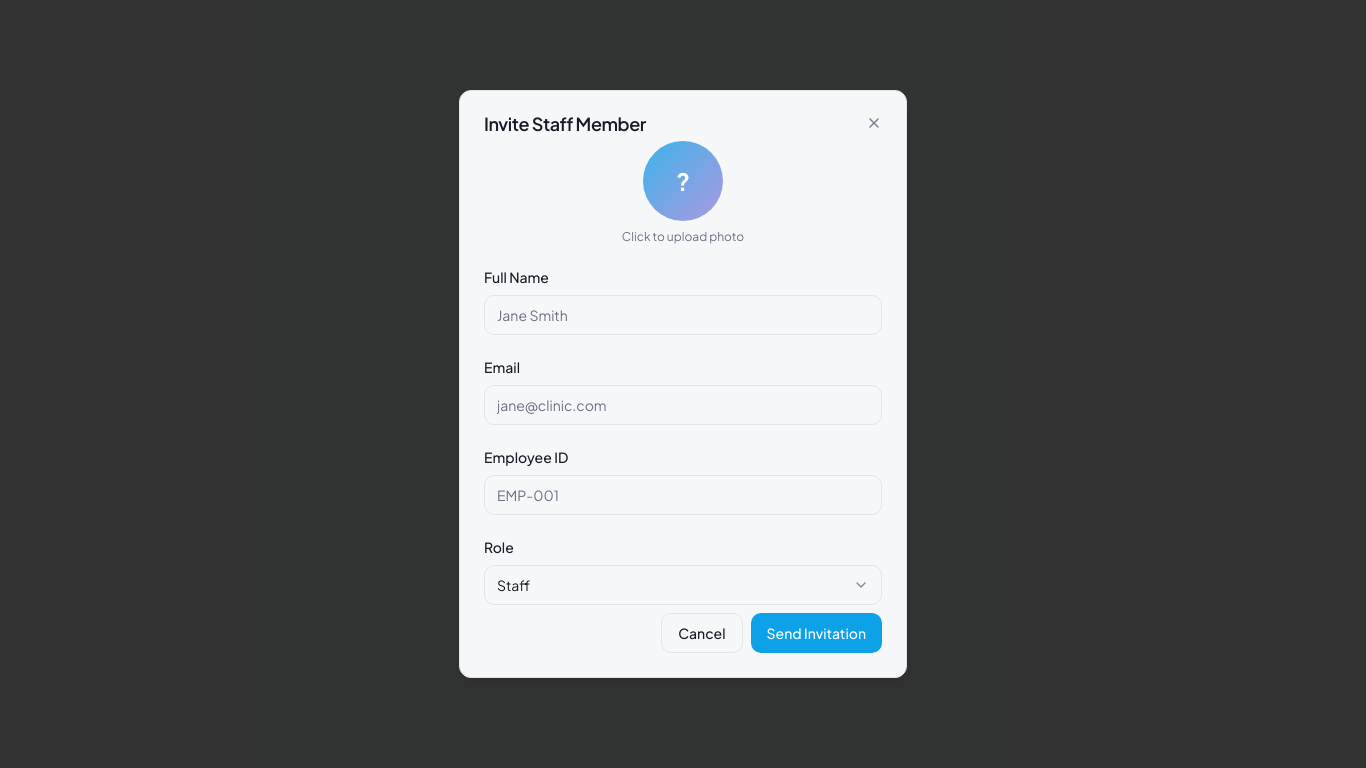
Test case: StaffFormDialog › blocks submission and surfaces Yup errors when fields are empty
Click the button "Send Invitation" at [816, 633], box [750,613,882,653]
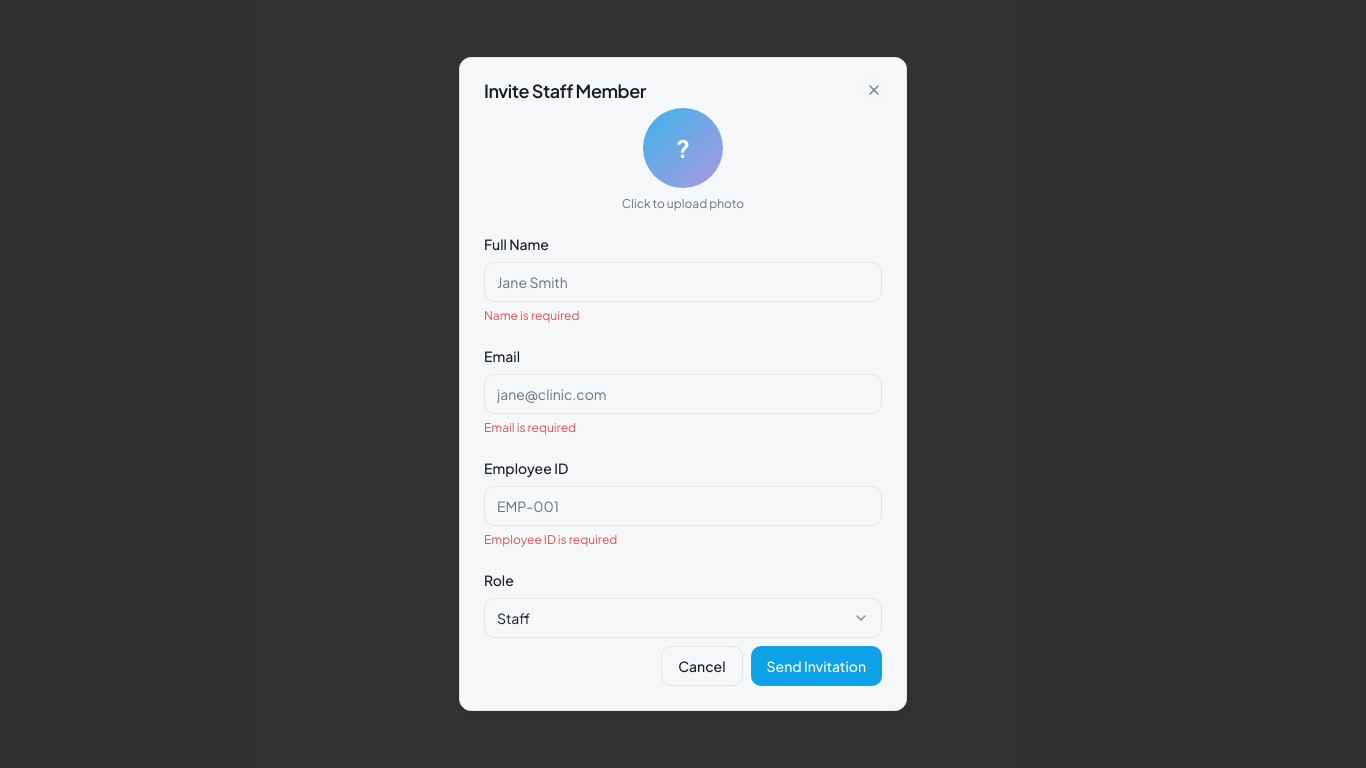
Result: the text "Name is required" is shown at [484,308,579,323]
Result: the text "Email is required" is shown at [484,420,576,435]
Result: the text "Employee ID is required" is shown at [484,532,617,547]
